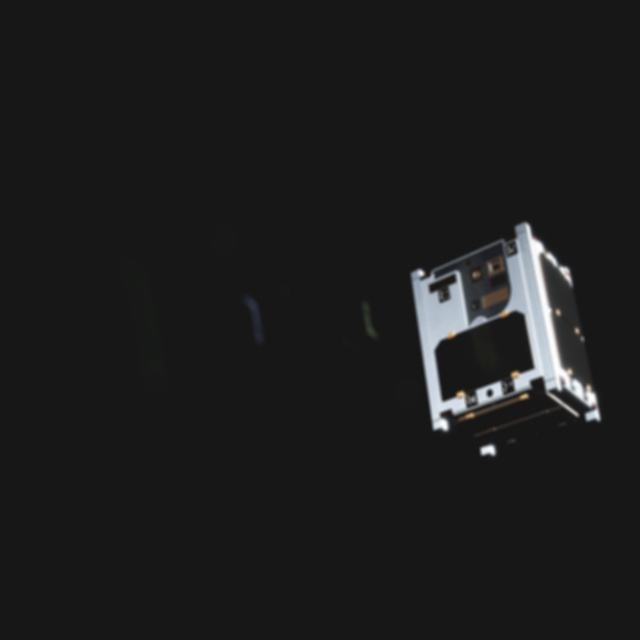satellite: (404, 221, 608, 471)
